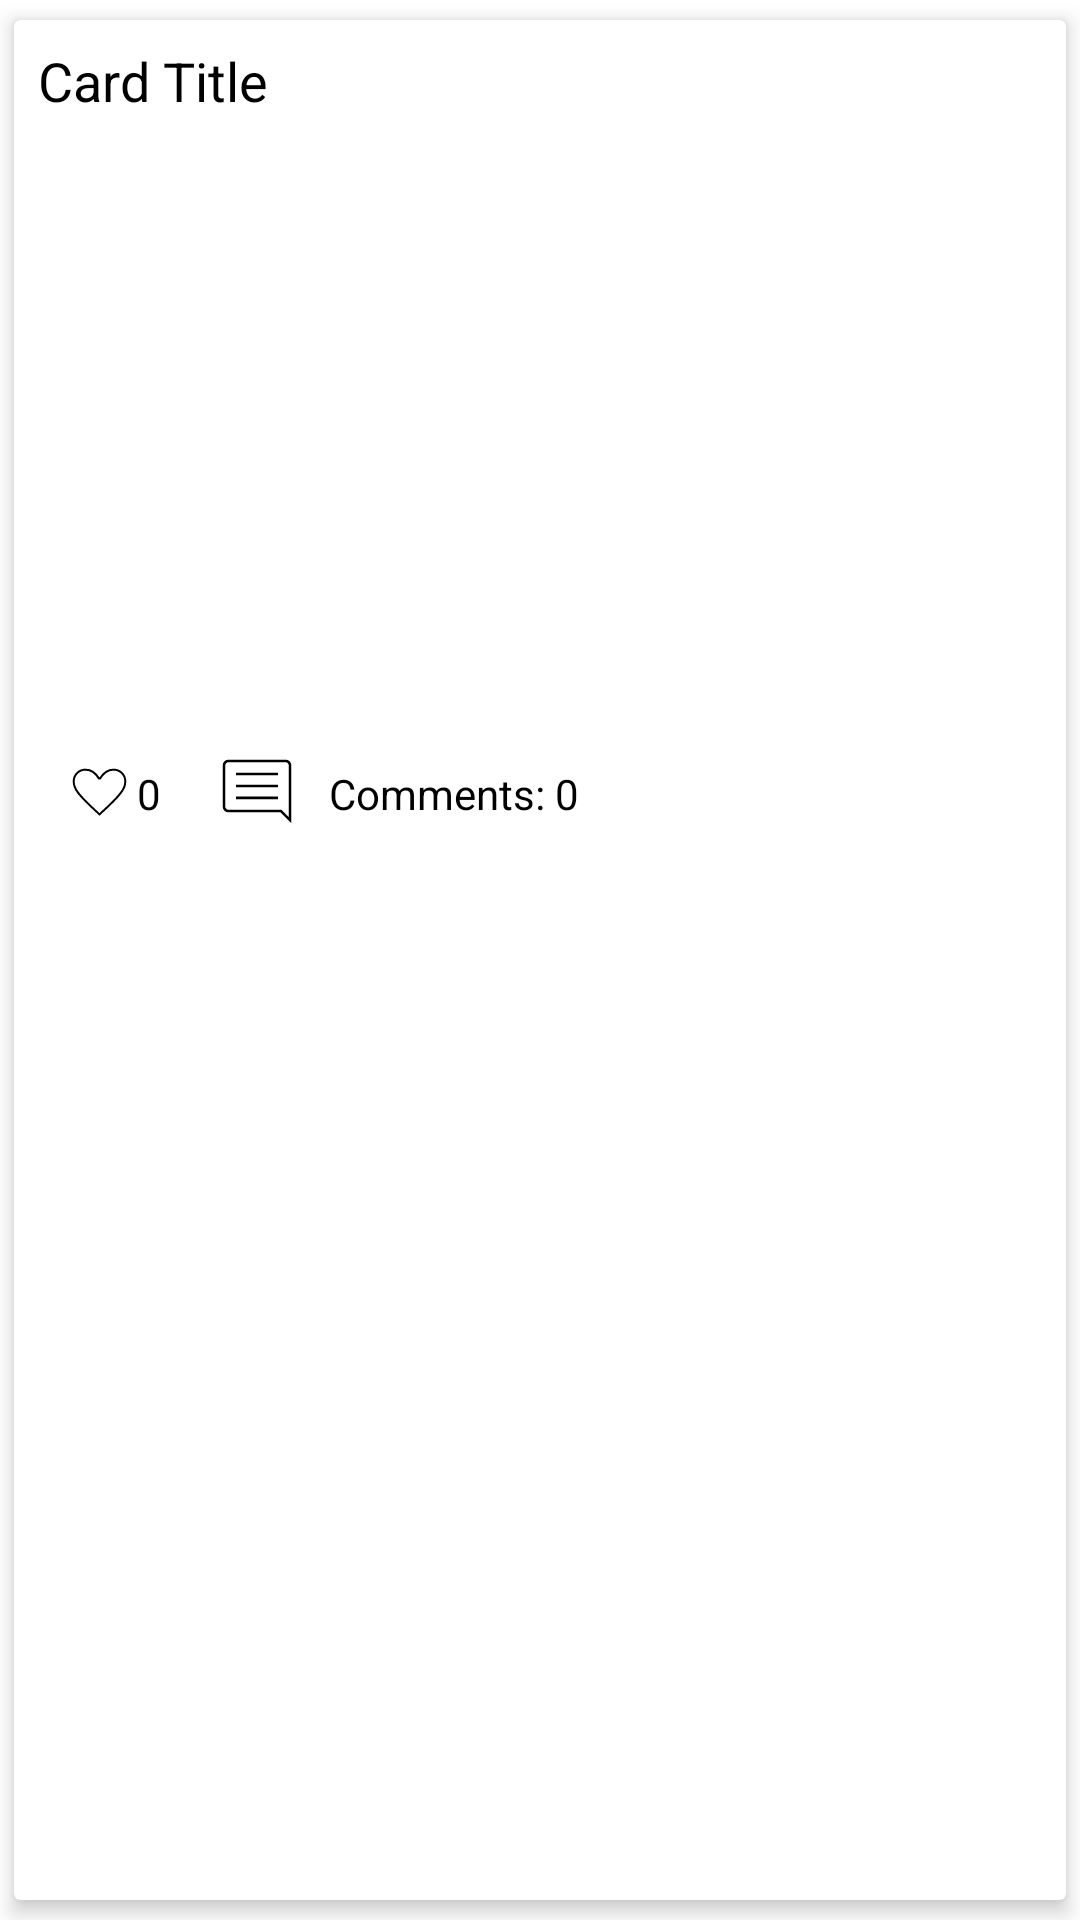

Screen size 1080w x 1920h. Icon name, then its center in pixels as (x=x, y=y):
like: (x=99, y=792)
